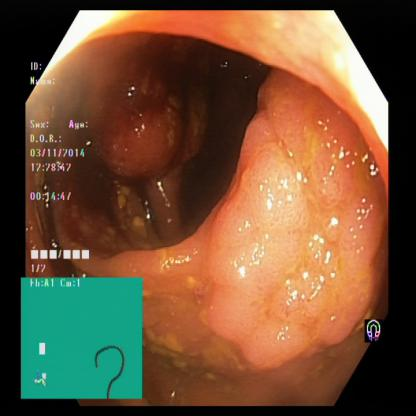Labels: (25, 57, 105, 280), (21, 279, 143, 398), (365, 314, 386, 349)
Polyps: (225, 133, 357, 364), (108, 95, 182, 171)
